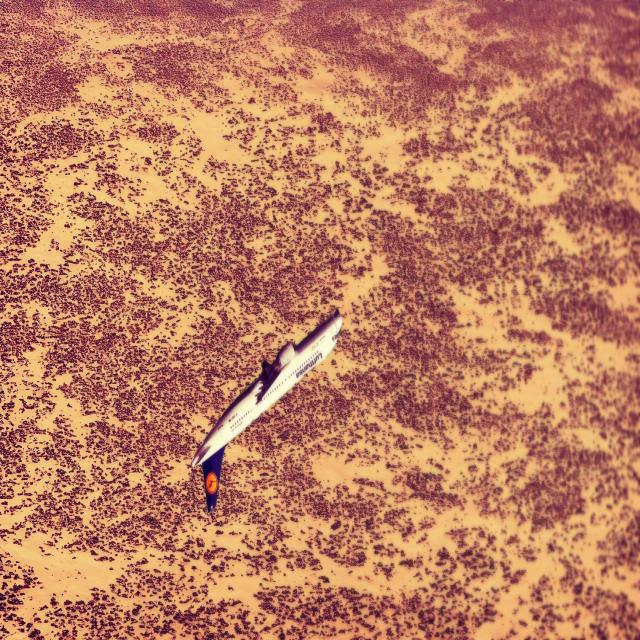airplane: (190, 306, 343, 513)
